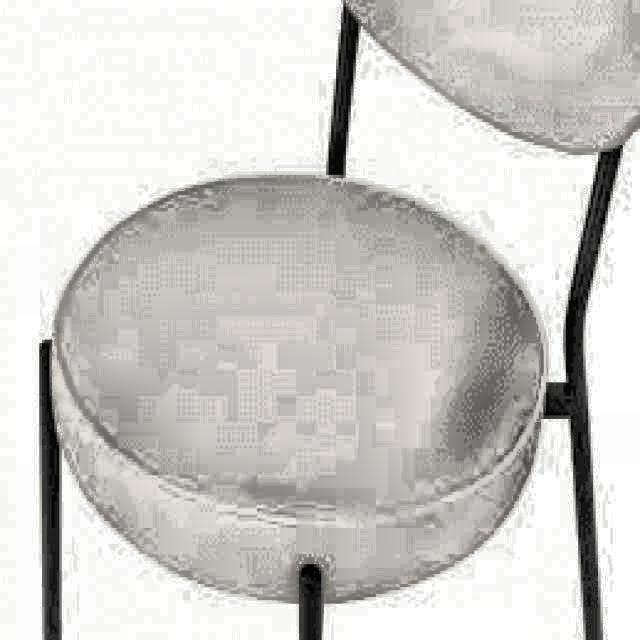cadeira: (27, 0, 640, 640), (51, 2, 640, 600)
